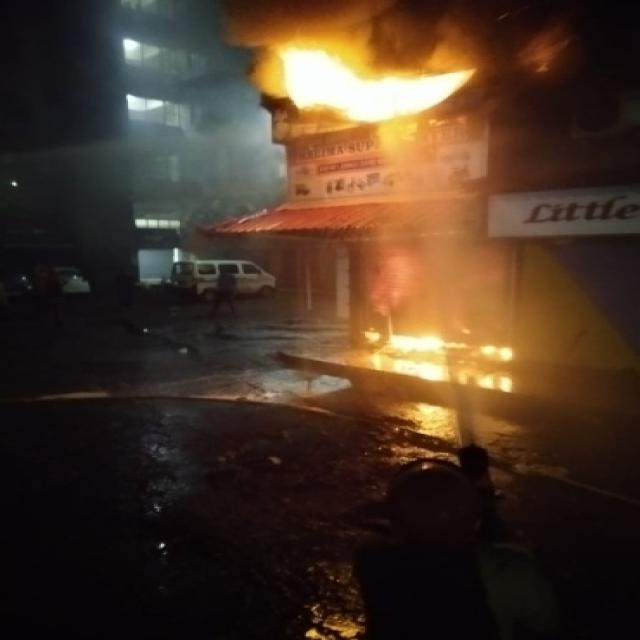fire: (279, 50, 477, 122), (363, 336, 470, 381), (511, 32, 569, 72)
